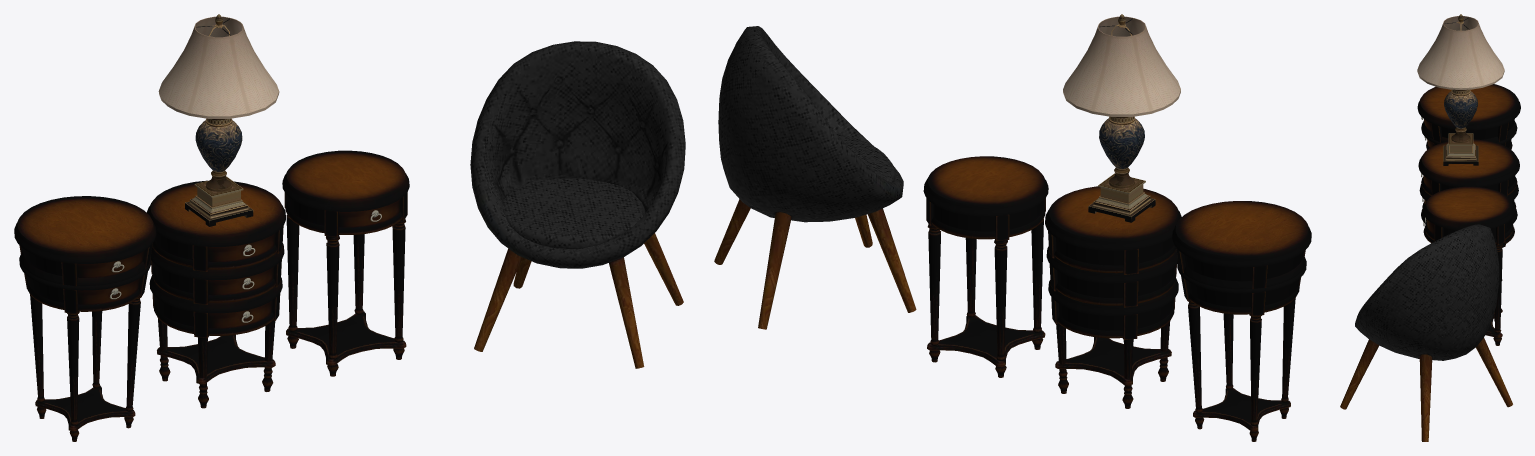
The model's file is some_furniture.glb.
The picture shows the model from 3 angles, left to right: view 1: azimuth 30°, elevation 25°; view 2: azimuth 150°, elevation 25°; view 3: azimuth 270°, elevation 25°; orthographic projection. The views are drawn at different scales.
Visible parts, largest first — view 1: endtable1 top _low_endtable1_0, chairlegs_low.001_chair1_0, lampscrew_low.001_lamp01_0; view 2: endtable1 top _low_endtable1_0, chairlegs_low.001_chair1_0, lampscrew_low.001_lamp01_0; view 3: chairlegs_low.001_chair1_0, endtable1 top _low_endtable1_0, lampscrew_low.001_lamp01_0.
Part boxes in pixels (left/top/right/bottom): endtable1 top _low_endtable1_0: left=14, top=150, right=409, bottom=441; chairlegs_low.001_chair1_0: left=470, top=41, right=685, bottom=368; lampscrew_low.001_lamp01_0: left=158, top=14, right=279, bottom=226; endtable1 top _low_endtable1_0: left=923, top=156, right=1311, bottom=441; chairlegs_low.001_chair1_0: left=714, top=26, right=916, bottom=329; lampscrew_low.001_lamp01_0: left=1063, top=14, right=1180, bottom=222; chairlegs_low.001_chair1_0: left=1340, top=224, right=1512, bottom=441; endtable1 top _low_endtable1_0: left=1417, top=84, right=1520, bottom=345; lampscrew_low.001_lamp01_0: left=1417, top=14, right=1504, bottom=165.
Size of the model in its own units: 2.87 by 1.66 by 0.9843.
Materials: 3 (3 with a texture image).
